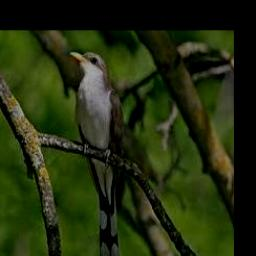Cuckoo: (69, 51, 126, 256)
